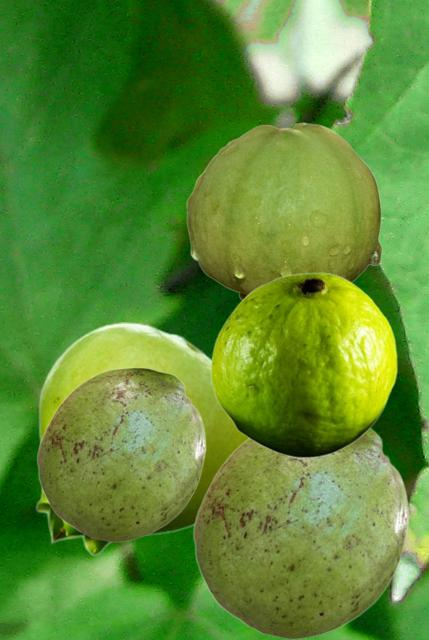guava: (35, 322, 245, 555), (192, 428, 408, 638), (186, 122, 381, 299), (210, 272, 396, 457), (36, 367, 205, 541)
